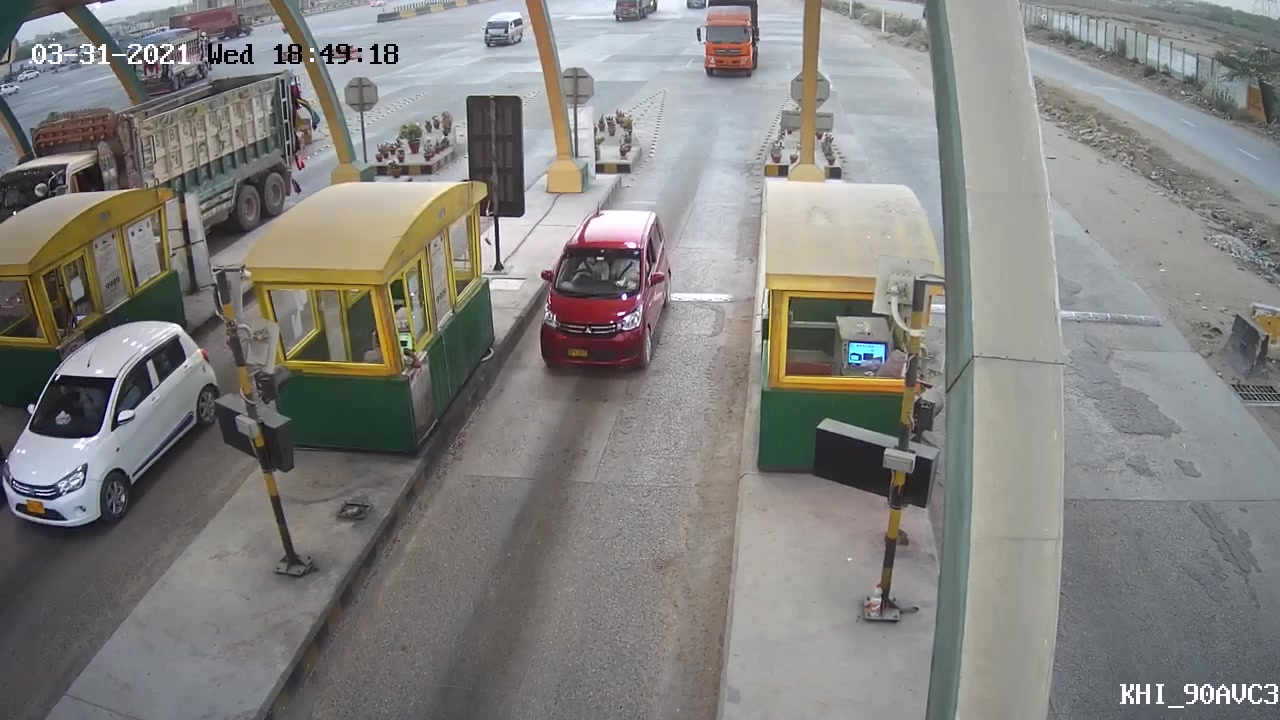F1: (530, 194, 682, 389)
